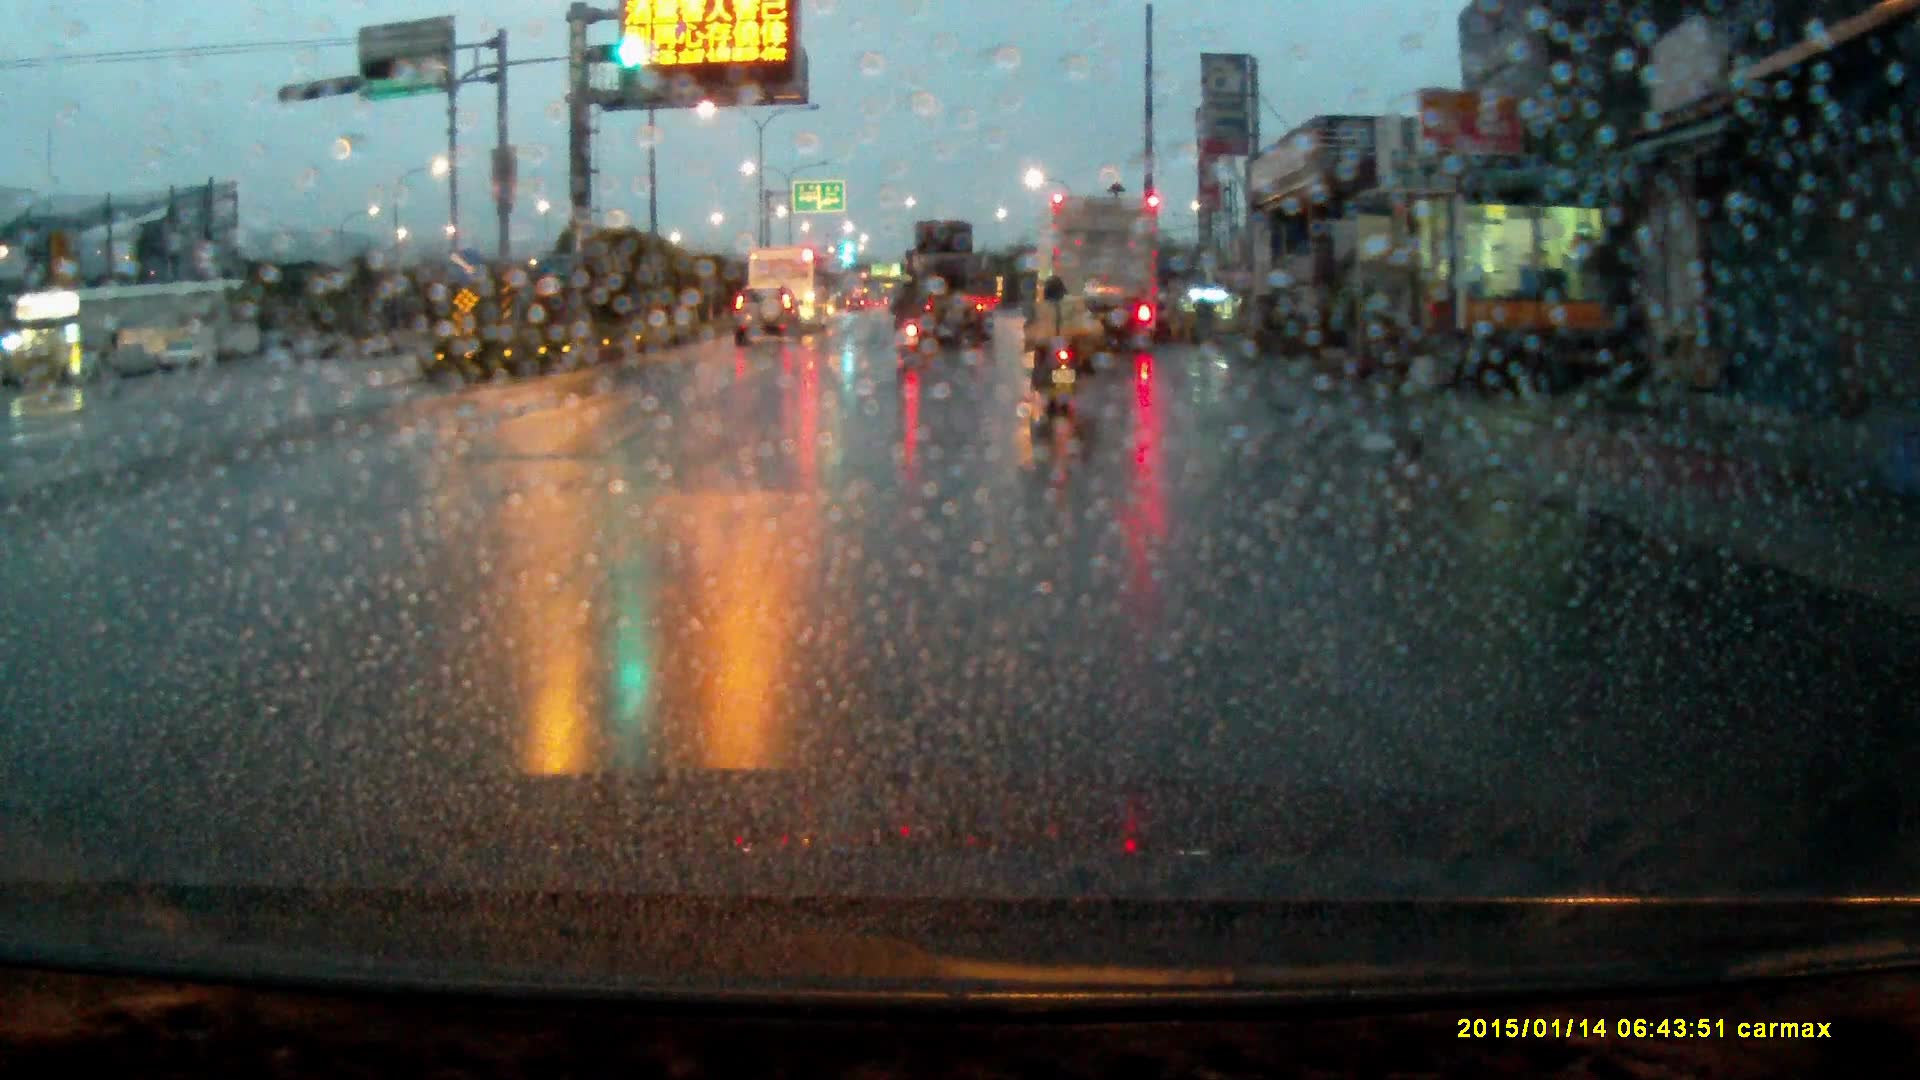rider: (1021, 274, 1098, 418), (894, 271, 932, 360)
vehicle: (1038, 206, 1161, 360), (899, 216, 999, 350), (760, 245, 835, 328), (733, 285, 805, 351)
